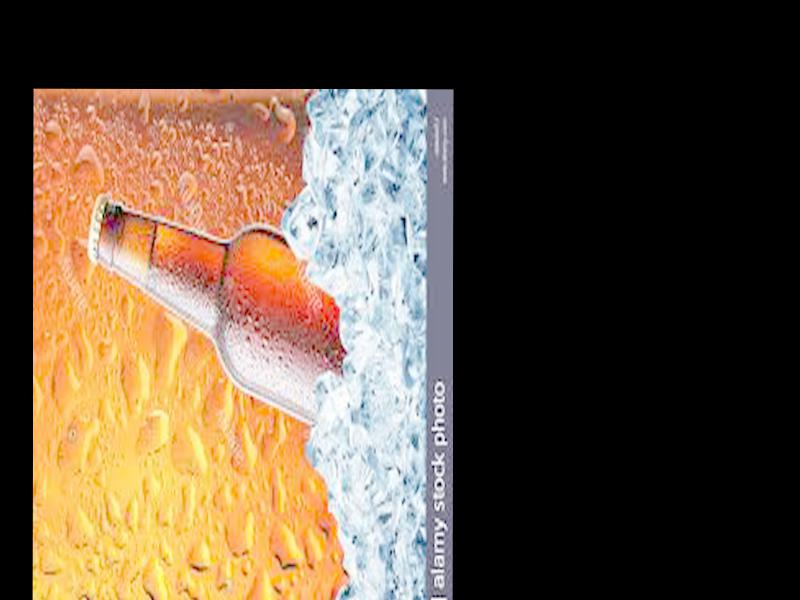Beer: (87, 182, 348, 421)
